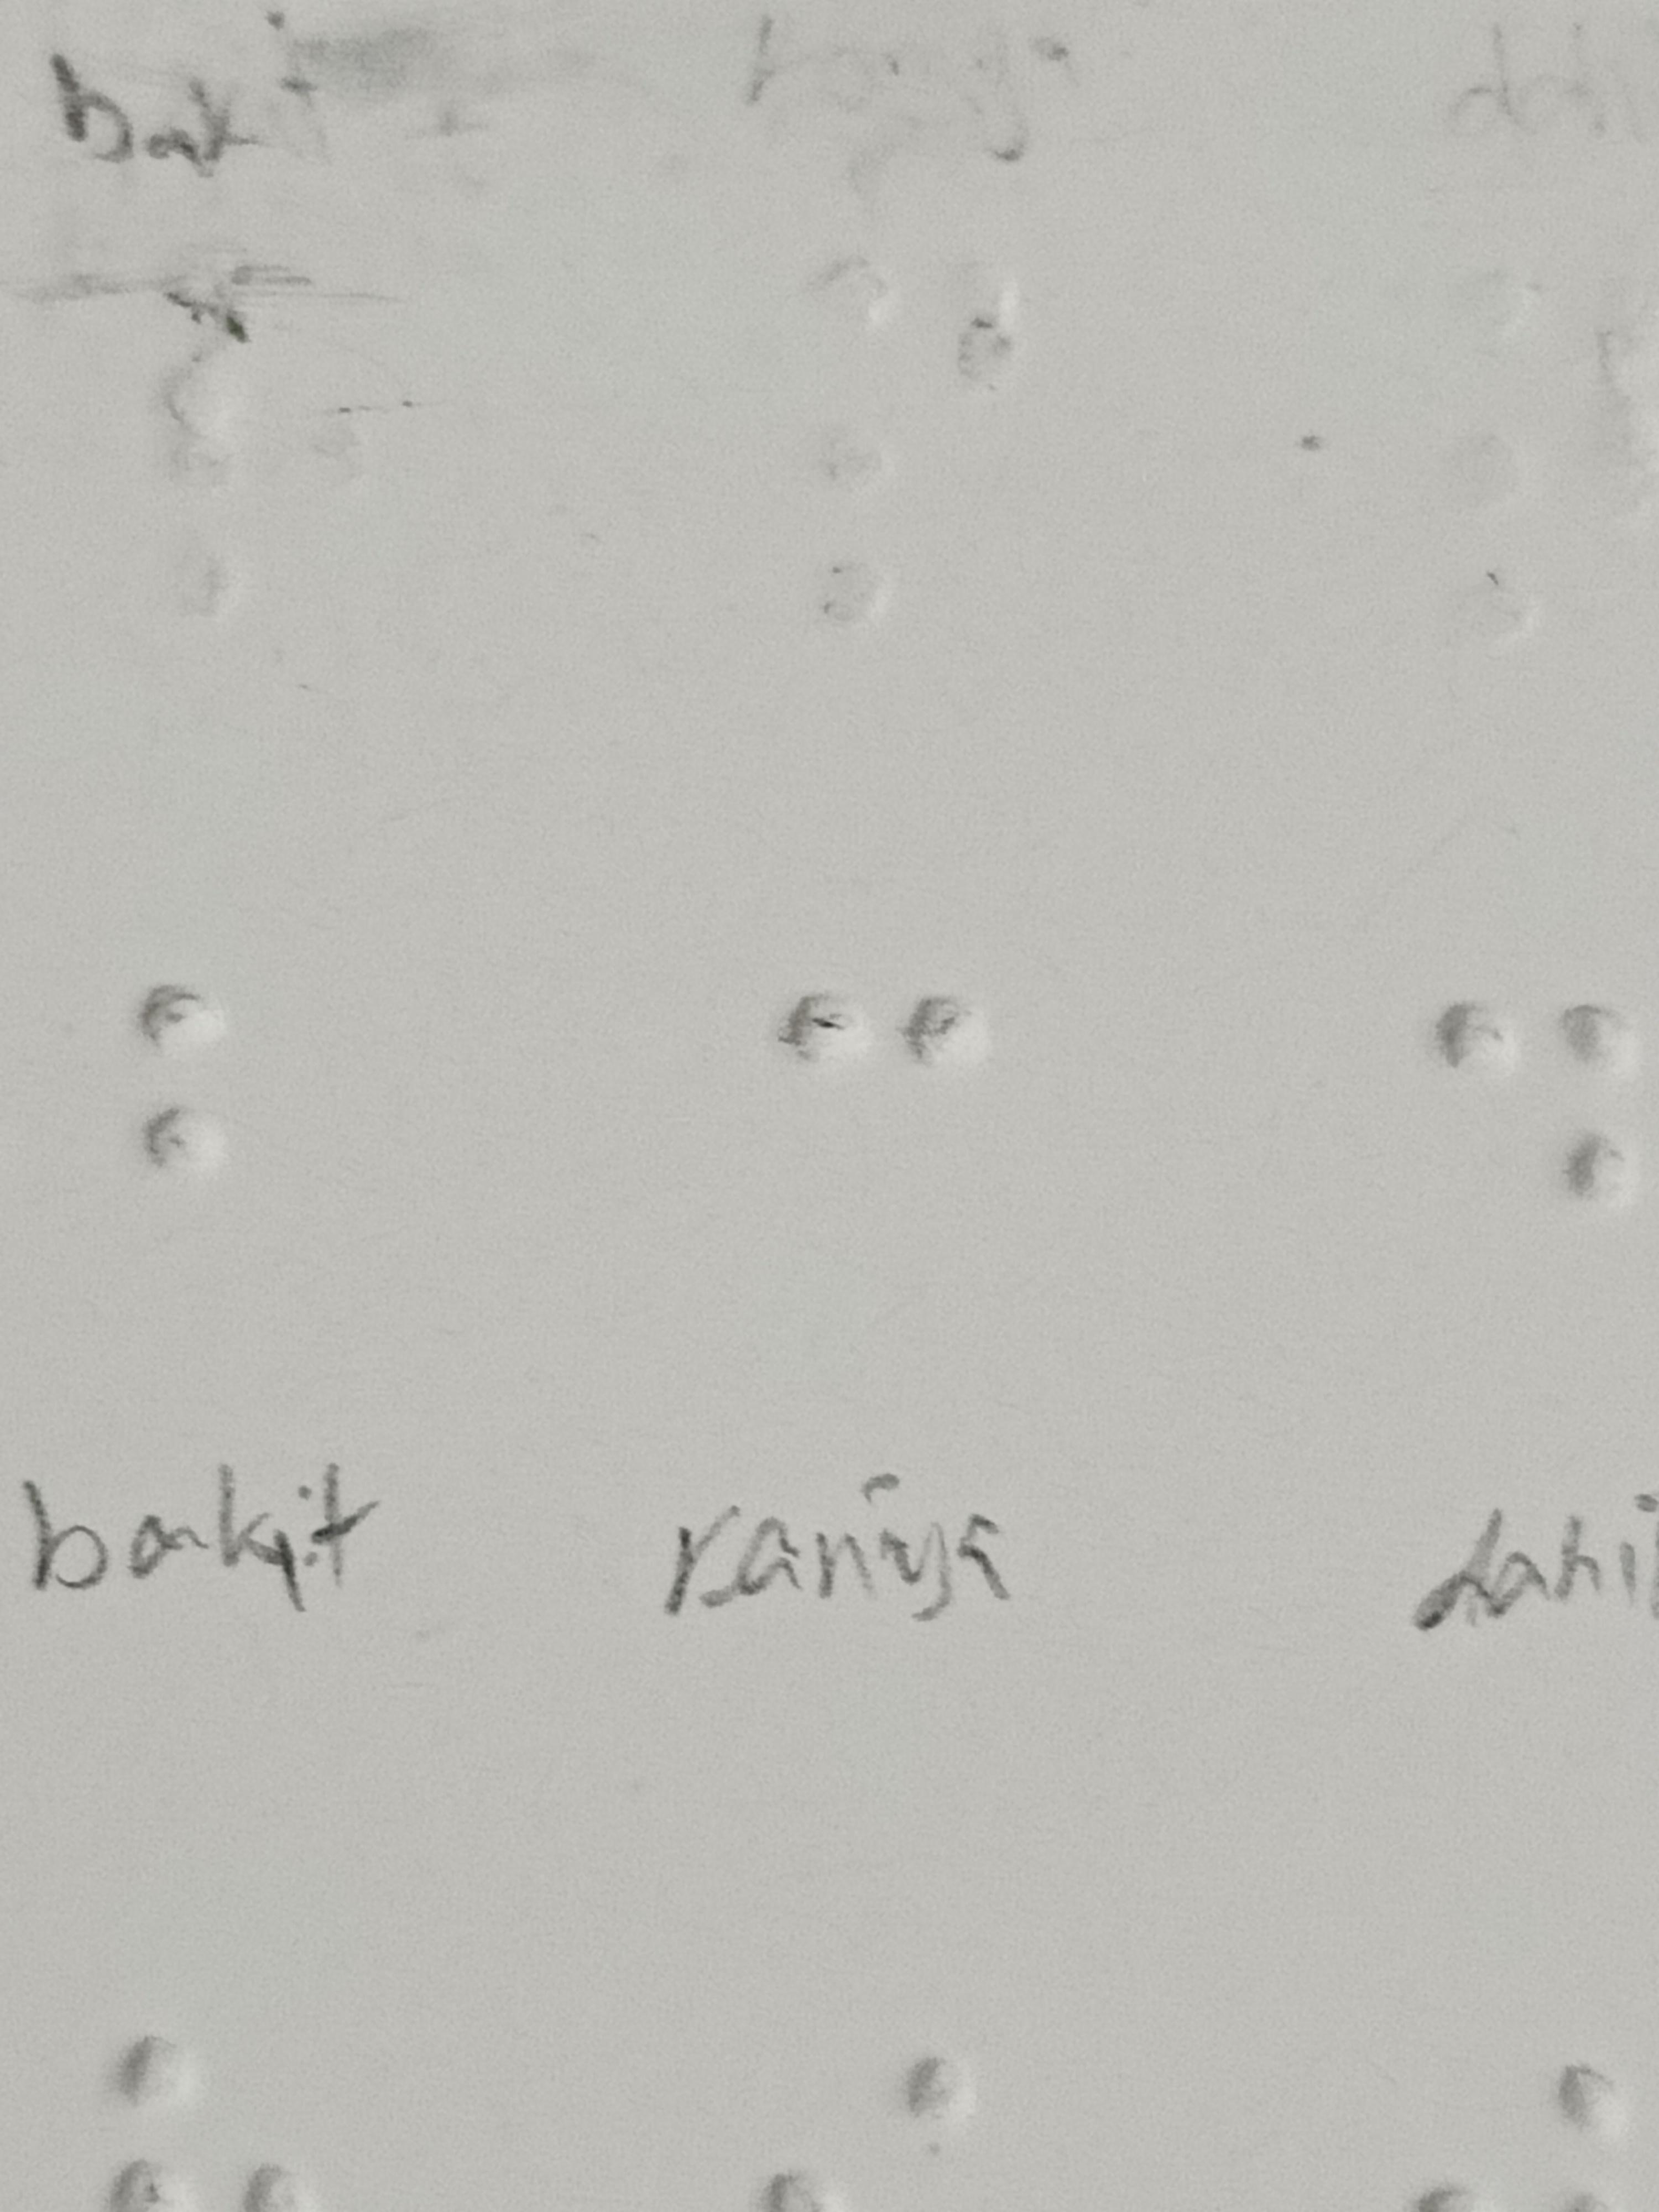one_cell_alphabet_bakit: (124, 975, 345, 1362)
one_cell_alphabet_dahil: (1419, 988, 1642, 1374)
one_cell_alphabet_kaniya: (777, 975, 1000, 1362)
